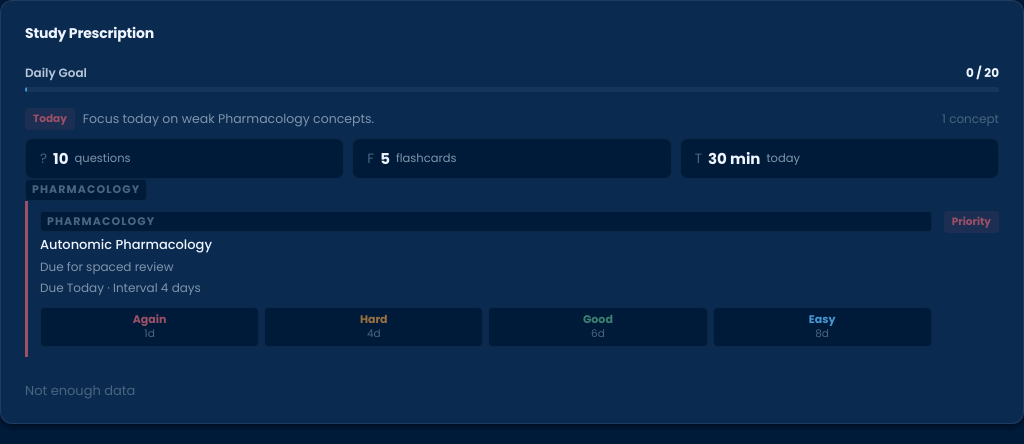
Scenario: StudyPrescriptionPanel — ease review buttons › dismisses the concept row after a successful review
The image size is (1024, 444).
Expected: the text "Autonomic Pharmacology" is shown, [40,235,212,254]
Click the button "Easy 8d" at (822, 327), box [712,307,932,347]
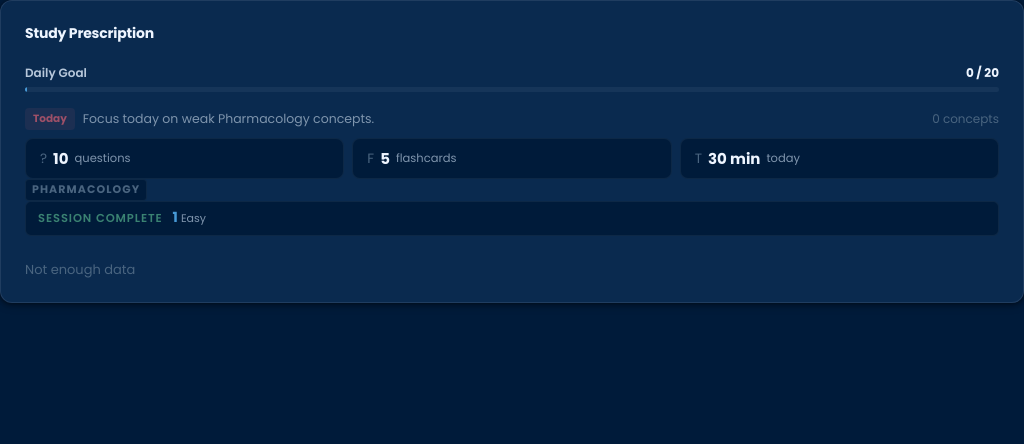
Result: the text "Autonomic Pharmacology" is gone
